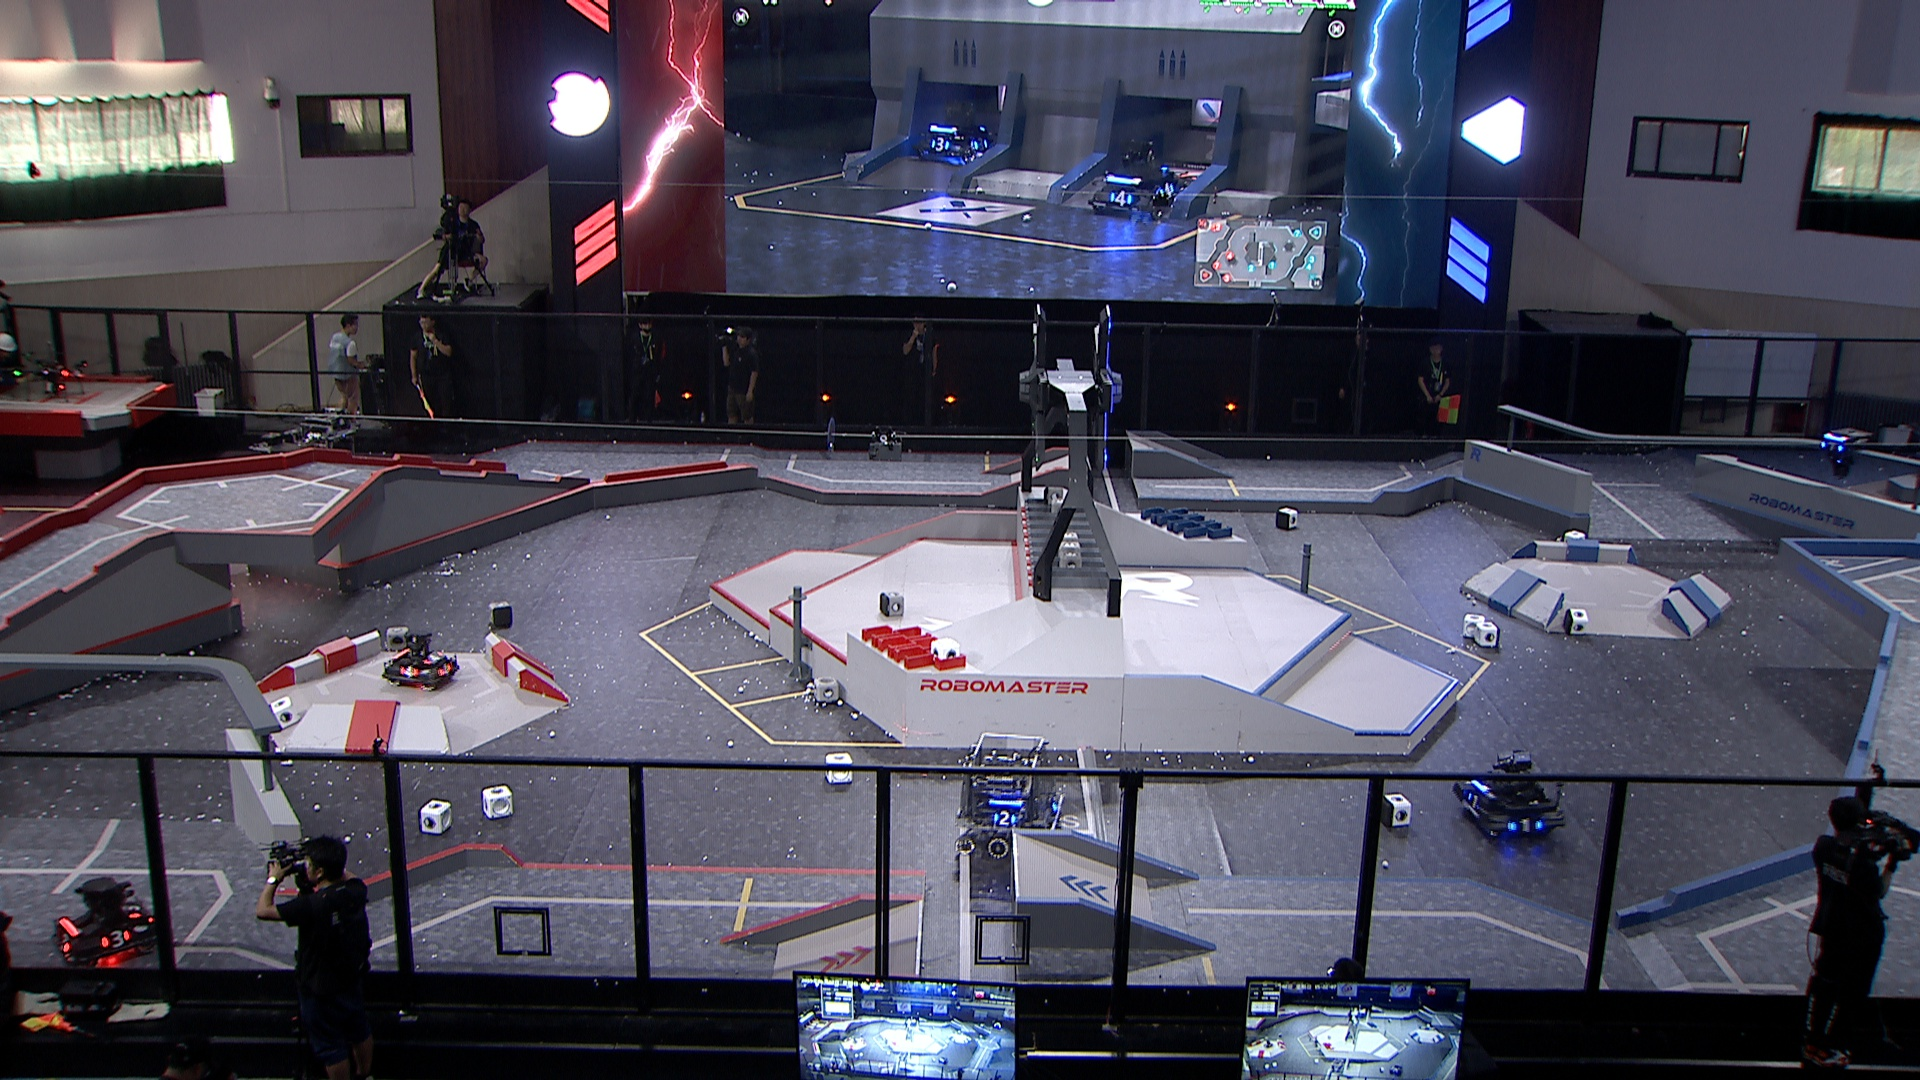armor: (98, 928, 131, 953), (1509, 816, 1545, 835), (53, 932, 76, 956), (992, 808, 1019, 827), (120, 901, 144, 920), (1466, 790, 1485, 815), (1821, 440, 1845, 456), (398, 665, 422, 680), (423, 650, 444, 665), (436, 662, 454, 678)
car: (955, 732, 1068, 858), (1453, 746, 1567, 843), (53, 878, 167, 969), (280, 406, 363, 493), (380, 626, 465, 694), (243, 431, 316, 506)
ignore: (1083, 138, 1193, 223), (913, 100, 1001, 169)
watcher: (1820, 423, 1873, 479)
